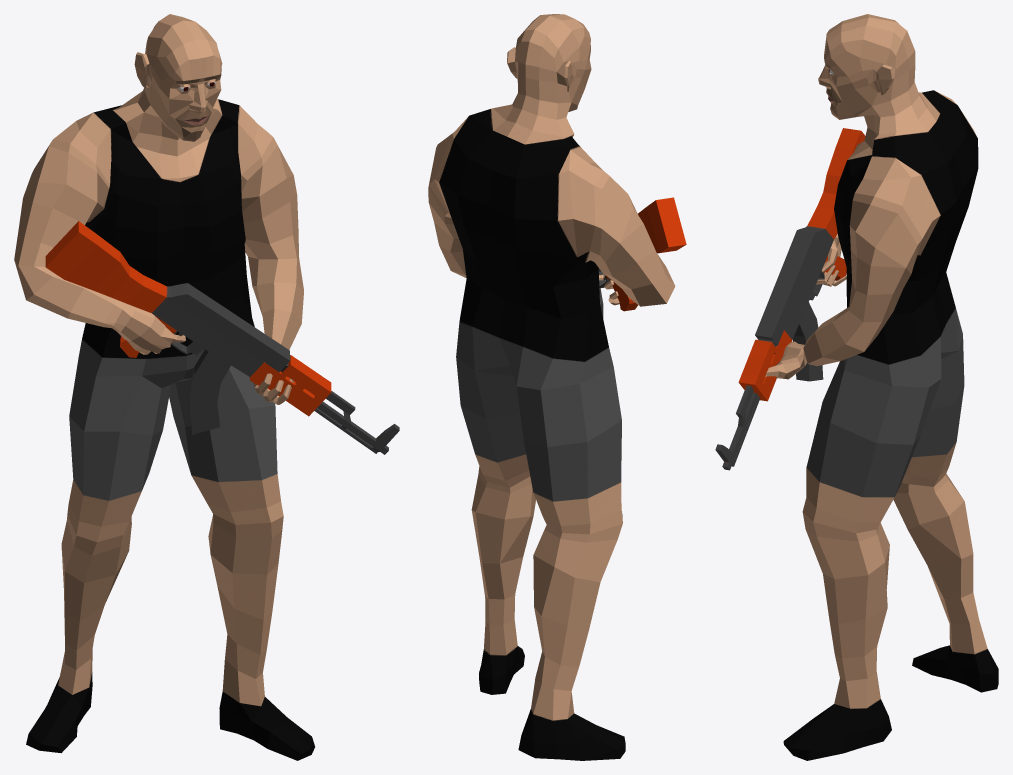
Rendered from PlayerIdle(87).obj.
3 renders of one model, left to right at view 1: azimuth 30°, elevation 25°; view 2: azimuth 150°, elevation 25°; view 3: azimuth 270°, elevation 25°, orthographic. The views are drawn at different scales.
Parts seen in each view (by area): view 1: Plane002, Object001; view 2: Plane002, Object001; view 3: Plane002, Object001.
Boxes of the visible parts, left/top/right/bottom form: Plane002: left=14, top=14, right=314, bottom=760; Object001: left=45, top=221, right=399, bottom=454; Plane002: left=428, top=14, right=675, bottom=760; Object001: left=598, top=197, right=686, bottom=318; Plane002: left=765, top=14, right=998, bottom=760; Object001: left=715, top=128, right=865, bottom=470.
Size of the model in its own units: 734 by 1801 by 664.
